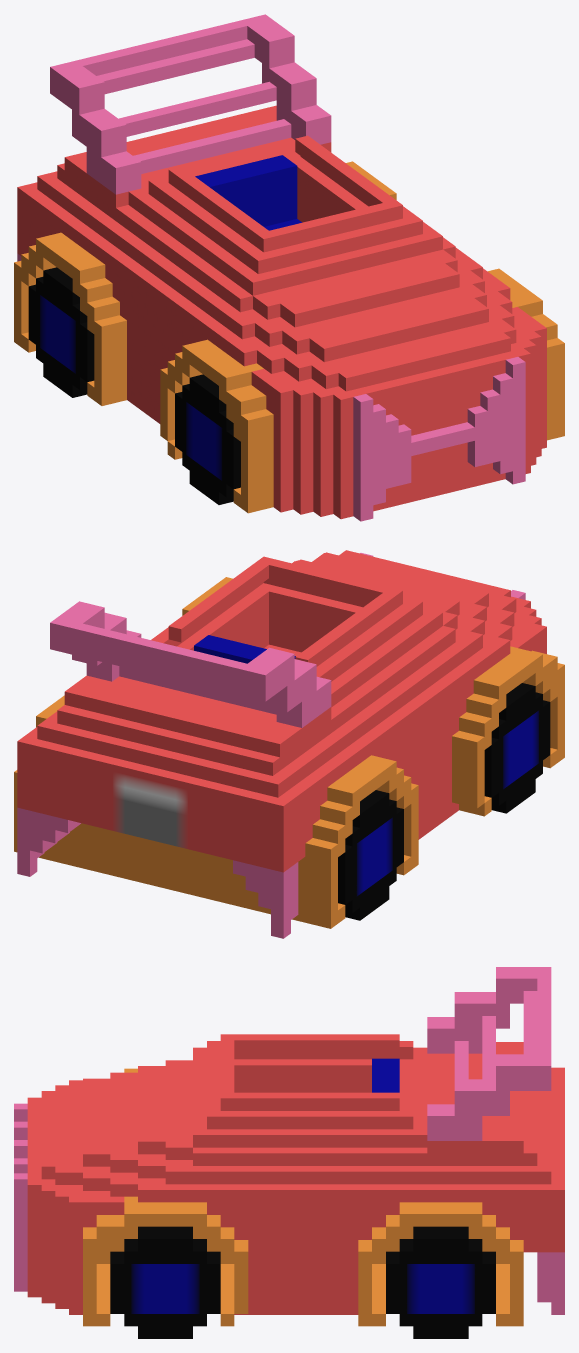
File: Car_48.fbx
The picture shows the model from 3 angles, top to bottom: view 1: azimuth 30°, elevation 25°; view 2: azimuth 150°, elevation 25°; view 3: azimuth 270°, elevation 25°; orthographic projection. The views are drawn at different scales.
Visible parts, largest first — view 1: Car_48; view 2: Car_48; view 3: Car_48.
Boxes of the visible parts, x1,y1,x2,y2 form: Car_48: [14, 14, 564, 521]; Car_48: [14, 550, 564, 938]; Car_48: [14, 967, 564, 1338].
Bounding box in the file's own units: 25 × 20 × 40.
Materials: 1 (1 with a texture image).
